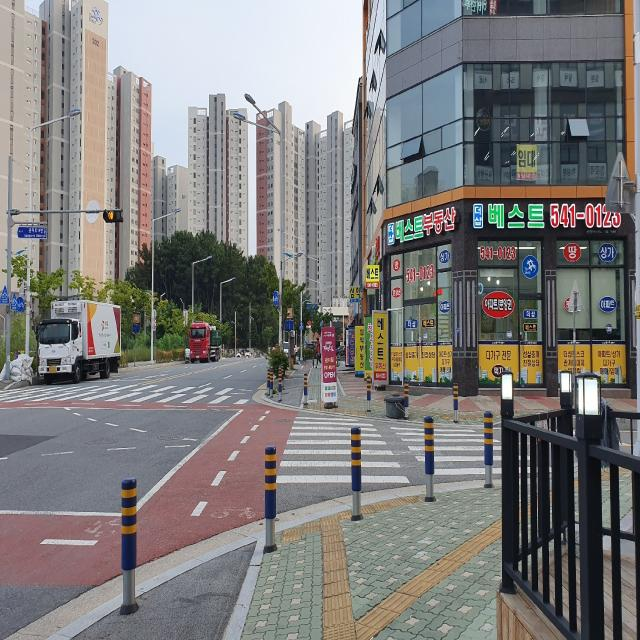횡단보도: (276, 416, 552, 483), (2, 379, 252, 407)
